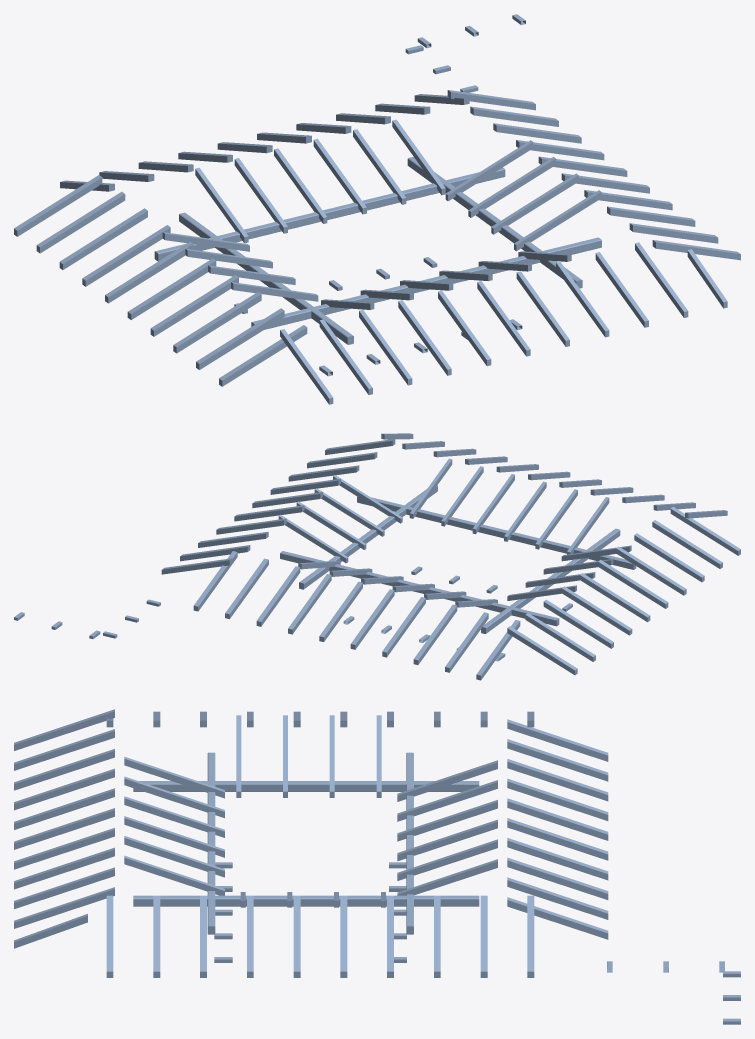
File: Roof_beams.fbx
3 renders of one model, top to bottom at view 1: azimuth 30°, elevation 25°; view 2: azimuth 150°, elevation 25°; view 3: azimuth 270°, elevation 25°, orthographic. The views are drawn at different scales.
Visible parts, largest first — view 1: Underbeam13, Fireplace:Fireplace:Fireplace:Fireplace:Fireplace:Fireplace:, polySurface135, Underbeam14, Underbeam10, polySurface126, polySurface137, polySurface136, polySurface132, Beam12; view 2: Underbeam13, Fireplace:Fireplace:Fireplace:Fireplace:Fireplace:Fireplace:, Underbeam10, Underbeam14, polySurface135, polySurface132, polySurface137, polySurface136, polySurface126, Beam12; view 3: Underbeam10, polySurface135, Fireplace:Fireplace:Fireplace:Fireplace:Fireplace:Fireplace:, Underbeam14, polySurface132, polySurface126, polySurface136, Underbeam13, Beam12.
Part boxes in pixels (box(x1,y1,x2,y2)): Underbeam13: box(14, 175, 307, 386); Fireplace:Fireplace:Fireplace:Fireplace:Fireplace:Fireplace:: box(154, 156, 601, 344); polySurface135: box(280, 242, 727, 404); Underbeam14: box(447, 90, 740, 260); Underbeam10: box(60, 94, 469, 191); polySurface126: box(195, 119, 445, 243); polySurface137: box(445, 140, 601, 251); polySurface136: box(162, 232, 318, 301); polySurface132: box(321, 251, 571, 309); Beam12: box(234, 257, 522, 376); Underbeam13: box(507, 506, 740, 675); Fireplace:Fireplace:Fireplace:Fireplace:Fireplace:Fireplace:: box(280, 485, 636, 633); Underbeam10: box(193, 551, 520, 680); Underbeam14: box(161, 439, 395, 574); polySurface135: box(381, 433, 727, 518); polySurface132: box(409, 458, 609, 554); polySurface137: box(278, 475, 402, 563); polySurface136: box(507, 545, 631, 600); polySurface126: box(298, 560, 497, 607); Beam12: box(343, 566, 572, 661); Underbeam10: box(507, 719, 608, 939); polySurface135: box(14, 709, 114, 948); Fireplace:Fireplace:Fireplace:Fireplace:Fireplace:Fireplace:: box(133, 752, 479, 934); Underbeam14: box(106, 895, 534, 977); polySurface132: box(124, 756, 224, 895); polySurface126: box(397, 760, 497, 895); polySurface136: box(236, 715, 381, 797); Underbeam13: box(106, 711, 534, 727); Beam12: box(214, 862, 406, 962).
Bounding box in the file's own units: 3828 × 639 × 3887.
